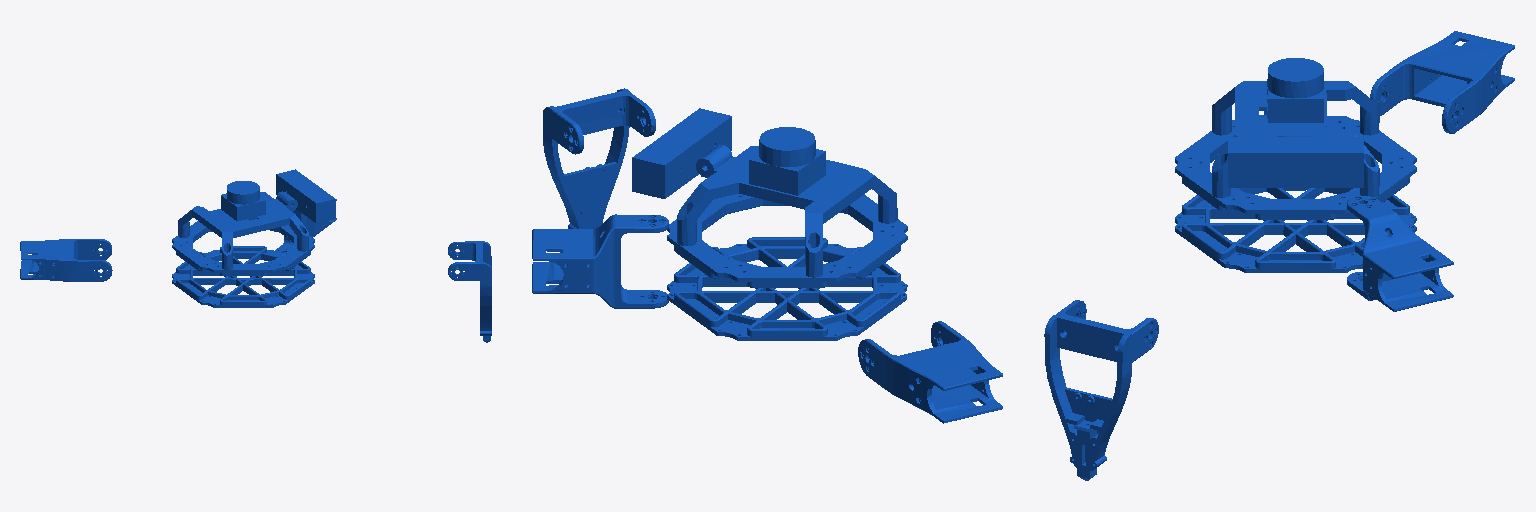
robot.urdf — hexo:
<robot name="hexo" version="1.0">
  <joint name="leg1_link1_joint" type="revolute">
    <limit lower="-2.000000" upper="2.000000" effort="1.960000" velocity="5.220000"/>
    <origin rpy="0.000000 0.000000 -0.523598" xyz="0.077942 -0.045000 0.024150"/>
    <parent link="base_link"/>
    <child link="leg1_link1"/>
    <axis xyz="0.000000 0.000000 1.000000"/>
  </joint>
  <joint name="leg1_link2_joint" type="revolute">
    <limit lower="-2.000000" upper="2.000000" effort="1.960000" velocity="0.000000"/>
    <origin rpy="0.000000 0.000000 -0.000000" xyz="0.070590 -0.000900 0.000072"/>
    <parent link="leg1_link1"/>
    <child link="leg1_link2"/>
    <axis xyz="0.000000 -1.000000 0.000000"/>
  </joint>
  <joint name="leg1_link3_joint" type="revolute">
    <limit lower="-2.000000" upper="2.000000" effort="1.960000" velocity="0.000000"/>
    <origin rpy="0.000000 0.000000 0.000000" xyz="0.079450 -0.000900 -0.000072"/>
    <parent link="leg1_link2"/>
    <child link="leg1_link3"/>
    <axis xyz="0.000000 -1.000000 0.000000"/>
  </joint>
  <joint name="leg1_link4_joint" type="revolute">
    <limit lower="-3.140000" upper="3.140000" effort="10.000000" velocity="10.000000"/>
    <origin rpy="0.000000 0.000000 0.000000" xyz="0.033000 -0.000000 -0.100000"/>
    <parent link="leg1_link3"/>
    <child link="leg1_link4"/>
    <axis xyz="0.000000 0.000000 1.000000"/>
  </joint>
  <joint name="leg2_link1_joint" type="revolute">
    <limit lower="-2.000000" upper="2.000000" effort="1.960000" velocity="5.220000"/>
    <origin rpy="0.000000 0.000000 -1.570796" xyz="0.000000 -0.089999 0.024150"/>
    <parent link="base_link"/>
    <child link="leg2_link1"/>
    <axis xyz="0.000000 0.000000 1.000000"/>
  </joint>
  <joint name="leg2_link2_joint" type="revolute">
    <limit lower="-2.000000" upper="2.000000" effort="1.960000" velocity="0.000000"/>
    <origin rpy="0.000000 0.000000 0.000000" xyz="0.070590 -0.000900 0.000072"/>
    <parent link="leg2_link1"/>
    <child link="leg2_link2"/>
    <axis xyz="0.000000 -1.000000 0.000000"/>
  </joint>
  <joint name="leg2_link3_joint" type="revolute">
    <limit lower="-2.000000" upper="2.000000" effort="1.960000" velocity="0.000000"/>
    <origin rpy="0.000000 0.000000 0.000000" xyz="0.079450 -0.000900 -0.000072"/>
    <parent link="leg2_link2"/>
    <child link="leg2_link3"/>
    <axis xyz="0.000000 -1.000000 0.000000"/>
  </joint>
  <joint name="leg2_link4_joint" type="revolute">
    <limit lower="-3.140000" upper="3.140000" effort="10.000000" velocity="10.000000"/>
    <origin rpy="0.000000 0.000000 -0.000000" xyz="0.033000 -0.000000 -0.100000"/>
    <parent link="leg2_link3"/>
    <child link="leg2_link4"/>
    <axis xyz="0.000000 0.000000 1.000000"/>
  </joint>
  <joint name="leg3_link1_joint" type="revolute">
    <limit lower="-2.000000" upper="2.000000" effort="1.960000" velocity="5.220000"/>
    <origin rpy="0.000000 0.000000 -2.617994" xyz="-0.077942 -0.045000 0.024150"/>
    <parent link="base_link"/>
    <child link="leg3_link1"/>
    <axis xyz="0.000000 0.000000 1.000000"/>
  </joint>
  <joint name="leg3_link2_joint" type="revolute">
    <limit lower="-2.000000" upper="2.000000" effort="1.960000" velocity="0.000000"/>
    <origin rpy="0.000000 0.000000 0.000000" xyz="0.070590 -0.000900 0.000072"/>
    <parent link="leg3_link1"/>
    <child link="leg3_link2"/>
    <axis xyz="0.000000 -1.000000 0.000000"/>
  </joint>
  <joint name="leg3_link3_joint" type="revolute">
    <limit lower="-2.000000" upper="2.000000" effort="1.960000" velocity="0.000000"/>
    <origin rpy="0.000000 0.000000 0.000000" xyz="0.079450 -0.000900 -0.000072"/>
    <parent link="leg3_link2"/>
    <child link="leg3_link3"/>
    <axis xyz="0.000000 -1.000000 0.000000"/>
  </joint>
  <joint name="leg3_link4_joint" type="revolute">
    <limit lower="-3.140000" upper="3.140000" effort="10.000000" velocity="10.000000"/>
    <origin rpy="0.000000 0.000000 0.000000" xyz="0.033000 -0.000000 -0.100000"/>
    <parent link="leg3_link3"/>
    <child link="leg3_link4"/>
    <axis xyz="0.000000 0.000000 1.000000"/>
  </joint>
  <joint name="leg4_link1_joint" type="revolute">
    <limit lower="-2.000000" upper="2.000000" effort="1.960000" velocity="5.220000"/>
    <origin rpy="0.000000 0.000000 2.617994" xyz="-0.077942 0.045000 0.024150"/>
    <parent link="base_link"/>
    <child link="leg4_link1"/>
    <axis xyz="0.000000 0.000000 1.000000"/>
  </joint>
  <joint name="leg4_link2_joint" type="revolute">
    <limit lower="-2.000000" upper="2.000000" effort="1.960000" velocity="0.000000"/>
    <origin rpy="0.000000 0.000000 -0.000000" xyz="0.070590 -0.000900 0.000072"/>
    <parent link="leg4_link1"/>
    <child link="leg4_link2"/>
    <axis xyz="0.000000 -1.000000 0.000000"/>
  </joint>
  <joint name="leg4_link3_joint" type="revolute">
    <limit lower="-2.000000" upper="2.000000" effort="1.960000" velocity="0.000000"/>
    <origin rpy="0.000000 0.000000 -0.000000" xyz="0.079450 -0.000900 -0.000072"/>
    <parent link="leg4_link2"/>
    <child link="leg4_link3"/>
    <axis xyz="0.000000 -1.000000 0.000000"/>
  </joint>
  <joint name="leg4_link4_joint" type="revolute">
    <limit lower="-3.140000" upper="3.140000" effort="10.000000" velocity="10.000000"/>
    <origin rpy="0.000000 0.000000 -0.000000" xyz="0.033000 0.000000 -0.100000"/>
    <parent link="leg4_link3"/>
    <child link="leg4_link4"/>
    <axis xyz="0.000000 0.000000 1.000000"/>
  </joint>
  <joint name="leg5_link1_joint" type="revolute">
    <limit lower="-2.000000" upper="2.000000" effort="1.960000" velocity="5.220000"/>
    <origin rpy="0.000000 0.000000 1.570796" xyz="-0.000000 0.089999 0.024150"/>
    <parent link="base_link"/>
    <child link="leg5_link1"/>
    <axis xyz="0.000000 0.000000 1.000000"/>
  </joint>
  <joint name="leg5_link2_joint" type="revolute">
    <limit lower="-2.000000" upper="2.000000" effort="1.960000" velocity="0.000000"/>
    <origin rpy="0.000000 0.000000 -0.000000" xyz="0.070590 -0.000900 0.000072"/>
    <parent link="leg5_link1"/>
    <child link="leg5_link2"/>
    <axis xyz="0.000000 -1.000000 0.000000"/>
  </joint>
  <joint name="leg5_link3_joint" type="revolute">
    <limit lower="-2.000000" upper="2.000000" effort="1.960000" velocity="0.000000"/>
    <origin rpy="0.000000 0.000000 0.000000" xyz="0.079450 -0.000900 -0.000072"/>
    <parent link="leg5_link2"/>
    <child link="leg5_link3"/>
    <axis xyz="0.000000 -1.000000 0.000000"/>
  </joint>
  <joint name="leg5_link4_joint" type="revolute">
    <limit lower="-3.140000" upper="3.140000" effort="10.000000" velocity="10.000000"/>
    <origin rpy="0.000000 0.000000 0.000000" xyz="0.033000 -0.000000 -0.100000"/>
    <parent link="leg5_link3"/>
    <child link="leg5_link4"/>
    <axis xyz="0.000000 0.000000 1.000000"/>
  </joint>
  <joint name="leg6_link1_joint" type="revolute">
    <limit lower="-2.000000" upper="2.000000" effort="1.960000" velocity="5.220000"/>
    <origin rpy="0.000000 0.000000 0.523599" xyz="0.077942 0.045000 0.024150"/>
    <parent link="base_link"/>
    <child link="leg6_link1"/>
    <axis xyz="0.000000 0.000000 1.000000"/>
  </joint>
  <joint name="leg6_link2_joint" type="revolute">
    <limit lower="-2.000000" upper="2.000000" effort="1.960000" velocity="0.000000"/>
    <origin rpy="0.000000 0.000000 0.000000" xyz="0.070590 -0.000900 0.000072"/>
    <parent link="leg6_link1"/>
    <child link="leg6_link2"/>
    <axis xyz="0.000000 -1.000000 0.000000"/>
  </joint>
  <joint name="leg6_link3_joint" type="revolute">
    <limit lower="-2.000000" upper="2.000000" effort="1.960000" velocity="0.000000"/>
    <origin rpy="0.000000 0.000000 -0.000000" xyz="0.079450 -0.000900 -0.000072"/>
    <parent link="leg6_link2"/>
    <child link="leg6_link3"/>
    <axis xyz="0.000000 -1.000000 0.000000"/>
  </joint>
  <joint name="leg6_link4_joint" type="revolute">
    <limit lower="-3.140000" upper="3.140000" effort="10.000000" velocity="10.000000"/>
    <origin rpy="0.000000 0.000000 -0.000000" xyz="0.033000 -0.000000 -0.100000"/>
    <parent link="leg6_link3"/>
    <child link="leg6_link4"/>
    <axis xyz="0.000000 0.000000 1.000000"/>
  </joint>
  <joint name="lidar_joint" type="fixed">
    <origin rpy="0.000000 0.000000 0.000000" xyz="-0.000038 -0.000818 0.108350"/>
    <parent link="base_link"/>
    <child link="base_laser"/>
  </joint>
  <joint name="rgbd_joint" type="fixed">
    <origin rpy="0.000000 0.000000 0.000000" xyz="0.080951 0.000000 0.084500"/>
    <parent link="base_link"/>
    <child link="rgbd_link"/>
  </joint>
  <link name="base_link">
    <inertial>
      <inertia ixx="0.000010" ixy="0.000000" ixz="0.000000" iyy="0.000010" iyz="0.000000" izz="0.000010"/>
      <origin rpy="0.000000 0.000000 0.000000" xyz="0.000000 0.000000 0.000000"/>
      <mass value="0.000010"/>
    </inertial>
    <visual name="hexo_base_v1.001">
      <origin rpy="0.000000 0.000000 0.000000" xyz="0.000000 0.000000 0.000000"/>
      <material name="Material"/>
      <geometry>
        <mesh filename="package://hexa_description/meshes/stl/hexo_base_v1.001.stl" scale="1.000000 1.000000 1.000000"/>
      </geometry>
    </visual>
  </link>
  <link name="leg1_link1">
    <inertial>
      <inertia ixx="0.000010" ixy="0.000000" ixz="0.000000" iyy="0.000010" iyz="0.000000" izz="0.000010"/>
      <origin rpy="0.000000 0.000000 0.000000" xyz="0.000000 0.000000 0.000000"/>
      <mass value="0.000010"/>
    </inertial>
    <visual name="leg5_link1.003">
      <origin rpy="0.000000 0.000000 1.570796" xyz="-0.000000 0.000000 0.000000"/>
      <material name="Material"/>
      <geometry>
        <mesh filename="package://hexa_description/meshes/stl/hexo_full.007.stl" scale="1.000000 1.000000 1.000000"/>
      </geometry>
    </visual>
  </link>
  <link name="leg1_link2">
    <inertial>
      <inertia ixx="0.000010" ixy="0.000000" ixz="0.000000" iyy="0.000010" iyz="0.000000" izz="0.000010"/>
      <origin rpy="0.000000 0.000000 0.000000" xyz="0.000000 0.000000 0.000000"/>
      <mass value="0.000010"/>
    </inertial>
    <visual name="leg5_link2.003">
      <origin rpy="0.000000 0.000000 1.570796" xyz="-0.000000 0.000000 0.000000"/>
      <material name="Material"/>
      <geometry>
        <mesh filename="package://hexa_description/meshes/stl/hexo_full.008.stl" scale="1.000000 1.000000 1.000000"/>
      </geometry>
    </visual>
  </link>
  <link name="leg1_link3">
    <inertial>
      <inertia ixx="0.000010" ixy="0.000000" ixz="0.000000" iyy="0.000010" iyz="0.000000" izz="0.000010"/>
      <origin rpy="0.000000 0.000000 0.000000" xyz="0.000000 0.000000 0.000000"/>
      <mass value="0.000010"/>
    </inertial>
    <visual name="leg5_link3.003">
      <origin rpy="0.000000 0.000000 1.570796" xyz="0.000000 -0.000000 0.000000"/>
      <material name="Material"/>
      <geometry>
        <mesh filename="package://hexa_description/meshes/stl/hexo_full.009.stl" scale="1.000000 1.000000 1.000000"/>
      </geometry>
    </visual>
  </link>
  <link name="leg1_link4">
    <inertial>
      <inertia ixx="0.000010" ixy="0.000000" ixz="0.000000" iyy="0.000010" iyz="0.000000" izz="0.000010"/>
      <origin rpy="0.000000 0.000000 0.000000" xyz="0.000000 0.000000 0.000000"/>
      <mass value="0.000010"/>
    </inertial>
  </link>
  <link name="leg2_link1">
    <inertial>
      <inertia ixx="0.000010" ixy="0.000000" ixz="0.000000" iyy="0.000010" iyz="0.000000" izz="0.000010"/>
      <origin rpy="0.000000 0.000000 0.000000" xyz="0.000000 0.000000 0.000000"/>
      <mass value="0.000010"/>
    </inertial>
    <visual name="leg5_link1.002">
      <origin rpy="0.000000 0.000000 1.570796" xyz="-0.000000 -0.000000 -0.000000"/>
      <material name="Material"/>
      <geometry>
        <mesh filename="package://hexa_description/meshes/stl/hexo_full.004.stl" scale="1.000000 1.000000 1.000000"/>
      </geometry>
    </visual>
  </link>
  <link name="leg2_link2">
    <inertial>
      <inertia ixx="0.000010" ixy="0.000000" ixz="0.000000" iyy="0.000010" iyz="0.000000" izz="0.000010"/>
      <origin rpy="0.000000 0.000000 0.000000" xyz="0.000000 0.000000 0.000000"/>
      <mass value="0.000010"/>
    </inertial>
    <visual name="leg5_link2.002">
      <origin rpy="0.000000 0.000000 1.570796" xyz="0.000000 0.000000 -0.000000"/>
      <material name="Material"/>
      <geometry>
        <mesh filename="package://hexa_description/meshes/stl/hexo_full.005.stl" scale="1.000000 1.000000 1.000000"/>
      </geometry>
    </visual>
  </link>
  <link name="leg2_link3">
    <inertial>
      <inertia ixx="0.000010" ixy="0.000000" ixz="0.000000" iyy="0.000010" iyz="0.000000" izz="0.000010"/>
      <origin rpy="0.000000 0.000000 0.000000" xyz="0.000000 0.000000 0.000000"/>
      <mass value="0.000010"/>
    </inertial>
    <visual name="leg5_link3.002">
      <origin rpy="0.000000 0.000000 1.570796" xyz="-0.000000 0.000000 -0.000000"/>
      <material name="Material"/>
      <geometry>
        <mesh filename="package://hexa_description/meshes/stl/hexo_full.006.stl" scale="1.000000 1.000000 1.000000"/>
      </geometry>
    </visual>
  </link>
  <link name="leg2_link4">
    <inertial>
      <inertia ixx="0.000010" ixy="0.000000" ixz="0.000000" iyy="0.000010" iyz="0.000000" izz="0.000010"/>
      <origin rpy="0.000000 0.000000 0.000000" xyz="0.000000 0.000000 0.000000"/>
      <mass value="0.000010"/>
    </inertial>
  </link>
  <link name="leg3_link1">
    <inertial>
      <inertia ixx="0.000010" ixy="0.000000" ixz="0.000000" iyy="0.000010" iyz="0.000000" izz="0.000010"/>
      <origin rpy="0.000000 0.000000 0.000000" xyz="0.000000 0.000000 0.000000"/>
      <mass value="0.000010"/>
    </inertial>
    <visual name="leg5_link1.006">
      <origin rpy="0.000000 0.000000 1.570797" xyz="0.000000 -0.000000 -0.000000"/>
      <material name="Material"/>
      <geometry>
        <mesh filename="package://hexa_description/meshes/stl/hexo_full.019.stl" scale="1.000000 1.000000 1.000000"/>
      </geometry>
    </visual>
  </link>
  <link name="leg3_link2">
    <inertial>
      <inertia ixx="0.000010" ixy="0.000000" ixz="0.000000" iyy="0.000010" iyz="0.000000" izz="0.000010"/>
      <origin rpy="0.000000 0.000000 0.000000" xyz="0.000000 0.000000 0.000000"/>
      <mass value="0.000010"/>
    </inertial>
    <visual name="leg5_link2.006">
      <origin rpy="0.000000 0.000000 1.570797" xyz="0.000000 0.000000 0.000000"/>
      <material name="Material"/>
      <geometry>
        <mesh filename="package://hexa_description/meshes/stl/hexo_full.020.stl" scale="1.000000 1.000000 1.000000"/>
      </geometry>
    </visual>
  </link>
  <link name="leg3_link3">
    <inertial>
      <inertia ixx="0.000010" ixy="0.000000" ixz="0.000000" iyy="0.000010" iyz="0.000000" izz="0.000010"/>
      <origin rpy="0.000000 0.000000 0.000000" xyz="0.000000 0.000000 0.000000"/>
      <mass value="0.000010"/>
    </inertial>
    <visual name="leg5_link3.006">
      <origin rpy="0.000000 0.000000 1.570797" xyz="-0.000000 0.000000 0.000000"/>
      <material name="Material"/>
      <geometry>
        <mesh filename="package://hexa_description/meshes/stl/hexo_full.021.stl" scale="1.000000 1.000000 1.000000"/>
      </geometry>
    </visual>
  </link>
  <link name="leg3_link4">
    <inertial>
      <inertia ixx="0.000010" ixy="0.000000" ixz="0.000000" iyy="0.000010" iyz="0.000000" izz="0.000010"/>
      <origin rpy="0.000000 0.000000 0.000000" xyz="0.000000 0.000000 0.000000"/>
      <mass value="0.000010"/>
    </inertial>
  </link>
  <link name="leg4_link1">
    <inertial>
      <inertia ixx="0.000010" ixy="0.000000" ixz="0.000000" iyy="0.000010" iyz="0.000000" izz="0.000010"/>
      <origin rpy="0.000000 0.000000 0.000000" xyz="0.000000 0.000000 0.000000"/>
      <mass value="0.000010"/>
    </inertial>
    <visual name="leg5_link1.005">
      <origin rpy="0.000000 0.000000 1.570797" xyz="0.000000 -0.000000 -0.000000"/>
      <material name="Material"/>
      <geometry>
        <mesh filename="package://hexa_description/meshes/stl/hexo_full.016.stl" scale="1.000000 1.000000 1.000000"/>
      </geometry>
    </visual>
  </link>
  <link name="leg4_link2">
    <inertial>
      <inertia ixx="0.000010" ixy="0.000000" ixz="0.000000" iyy="0.000010" iyz="0.000000" izz="0.000010"/>
      <origin rpy="0.000000 0.000000 0.000000" xyz="0.000000 0.000000 0.000000"/>
      <mass value="0.000010"/>
    </inertial>
    <visual name="leg5_link2.005">
      <origin rpy="0.000000 0.000000 1.570797" xyz="0.000000 -0.000000 0.000000"/>
      <material name="Material"/>
      <geometry>
        <mesh filename="package://hexa_description/meshes/stl/hexo_full.017.stl" scale="1.000000 1.000000 1.000000"/>
      </geometry>
    </visual>
  </link>
  <link name="leg4_link3">
    <inertial>
      <inertia ixx="0.000010" ixy="0.000000" ixz="0.000000" iyy="0.000010" iyz="0.000000" izz="0.000010"/>
      <origin rpy="0.000000 0.000000 0.000000" xyz="0.000000 0.000000 0.000000"/>
      <mass value="0.000010"/>
    </inertial>
    <visual name="leg5_link3.005">
      <origin rpy="0.000000 0.000000 1.570797" xyz="-0.000000 -0.000000 0.000000"/>
      <material name="Material"/>
      <geometry>
        <mesh filename="package://hexa_description/meshes/stl/hexo_full.022.stl" scale="1.000000 1.000000 1.000000"/>
      </geometry>
    </visual>
  </link>
  <link name="leg4_link4">
    <inertial>
      <inertia ixx="0.000010" ixy="0.000000" ixz="0.000000" iyy="0.000010" iyz="0.000000" izz="0.000010"/>
      <origin rpy="0.000000 0.000000 0.000000" xyz="0.000000 0.000000 0.000000"/>
      <mass value="0.000010"/>
    </inertial>
  </link>
  <link name="leg5_link1">
    <inertial>
      <inertia ixx="0.000010" ixy="0.000000" ixz="0.000000" iyy="0.000010" iyz="0.000000" izz="0.000010"/>
      <origin rpy="0.000000 0.000000 0.000000" xyz="0.000000 0.000000 0.000000"/>
      <mass value="0.000010"/>
    </inertial>
    <visual name="leg5_link1.004">
      <origin rpy="0.000000 0.000000 1.570797" xyz="0.000000 -0.000000 -0.000000"/>
      <material name="Material"/>
      <geometry>
        <mesh filename="package://hexa_description/meshes/stl/hexo_full.013.stl" scale="1.000000 1.000000 1.000000"/>
      </geometry>
    </visual>
  </link>
  <link name="leg5_link2">
    <inertial>
      <inertia ixx="0.000010" ixy="0.000000" ixz="0.000000" iyy="0.000010" iyz="0.000000" izz="0.000010"/>
      <origin rpy="0.000000 0.000000 0.000000" xyz="0.000000 0.000000 0.000000"/>
      <mass value="0.000010"/>
    </inertial>
    <visual name="leg5_link2.004">
      <origin rpy="0.000000 0.000000 1.570797" xyz="-0.000000 0.000000 0.000000"/>
      <material name="Material"/>
      <geometry>
        <mesh filename="package://hexa_description/meshes/stl/hexo_full.014.stl" scale="1.000000 1.000000 1.000000"/>
      </geometry>
    </visual>
  </link>
  <link name="leg5_link3">
    <inertial>
      <inertia ixx="0.000010" ixy="0.000000" ixz="0.000000" iyy="0.000010" iyz="0.000000" izz="0.000010"/>
      <origin rpy="0.000000 0.000000 0.000000" xyz="0.000000 0.000000 0.000000"/>
      <mass value="0.000010"/>
    </inertial>
    <visual name="leg5_link3.004">
      <origin rpy="0.000000 0.000000 1.570797" xyz="-0.000000 0.000000 0.000000"/>
      <material name="Material"/>
      <geometry>
        <mesh filename="package://hexa_description/meshes/stl/hexo_full.015.stl" scale="1.000000 1.000000 1.000000"/>
      </geometry>
    </visual>
  </link>
  <link name="leg5_link4">
    <inertial>
      <inertia ixx="0.000010" ixy="0.000000" ixz="0.000000" iyy="0.000010" iyz="0.000000" izz="0.000010"/>
      <origin rpy="0.000000 0.000000 0.000000" xyz="0.000000 0.000000 0.000000"/>
      <mass value="0.000010"/>
    </inertial>
  </link>
  <link name="leg6_link1">
    <inertial>
      <inertia ixx="0.000010" ixy="0.000000" ixz="0.000000" iyy="0.000010" iyz="0.000000" izz="0.000010"/>
      <origin rpy="0.000000 0.000000 0.000000" xyz="0.000000 0.000000 0.000000"/>
      <mass value="0.000010"/>
    </inertial>
    <visual name="leg5_link1.001">
      <origin rpy="0.000000 0.000000 1.570796" xyz="0.000000 -0.000000 -0.000000"/>
      <material name="Material"/>
      <geometry>
        <mesh filename="package://hexa_description/meshes/stl/hexo_full.010.stl" scale="1.000000 1.000000 1.000000"/>
      </geometry>
    </visual>
  </link>
  <link name="leg6_link2">
    <inertial>
      <inertia ixx="0.000010" ixy="0.000000" ixz="0.000000" iyy="0.000010" iyz="0.000000" izz="0.000010"/>
      <origin rpy="0.000000 0.000000 0.000000" xyz="0.000000 0.000000 0.000000"/>
      <mass value="0.000010"/>
    </inertial>
    <visual name="leg5_link2.001">
      <origin rpy="0.000000 0.000000 1.570796" xyz="0.000000 -0.000000 -0.000000"/>
      <material name="Material"/>
      <geometry>
        <mesh filename="package://hexa_description/meshes/stl/hexo_full.011.stl" scale="1.000000 1.000000 1.000000"/>
      </geometry>
    </visual>
  </link>
  <link name="leg6_link3">
    <inertial>
      <inertia ixx="0.000010" ixy="0.000000" ixz="0.000000" iyy="0.000010" iyz="0.000000" izz="0.000010"/>
      <origin rpy="0.000000 0.000000 0.000000" xyz="0.000000 0.000000 0.000000"/>
      <mass value="0.000010"/>
    </inertial>
    <visual name="leg5_link3.001">
      <origin rpy="0.000000 0.000000 1.570796" xyz="-0.000000 0.000000 -0.000000"/>
      <material name="Material"/>
      <geometry>
        <mesh filename="package://hexa_description/meshes/stl/hexo_full.012.stl" scale="1.000000 1.000000 1.000000"/>
      </geometry>
    </visual>
  </link>
  <link name="leg6_link4">
    <inertial>
      <inertia ixx="0.000010" ixy="0.000000" ixz="0.000000" iyy="0.000010" iyz="0.000000" izz="0.000010"/>
      <origin rpy="0.000000 0.000000 0.000000" xyz="0.000000 0.000000 0.000000"/>
      <mass value="0.000010"/>
    </inertial>
  </link>
  <link name="base_laser">
    <inertial>
      <inertia ixx="0.000010" ixy="0.000000" ixz="0.000000" iyy="0.000010" iyz="0.000000" izz="0.000010"/>
      <origin rpy="0.000000 0.000000 0.000000" xyz="0.000000 0.000000 0.000000"/>
      <mass value="0.000010"/>
    </inertial>
    <visual name="hexo_base_v1.002">
      <origin rpy="0.000000 0.000000 0.000000" xyz="0.000000 0.000000 0.000000"/>
      <material name="Material"/>
      <geometry>
        <mesh filename="package://hexa_description/meshes/stl/hexo_base_v1.003.stl" scale="1.000000 1.000000 1.000000"/>
      </geometry>
    </visual>
  </link>
  <link name="rgbd_link">
    <inertial>
      <inertia ixx="0.000010" ixy="0.000000" ixz="0.000000" iyy="0.000010" iyz="0.000000" izz="0.000010"/>
      <origin rpy="0.000000 0.000000 0.000000" xyz="0.000000 0.000000 0.000000"/>
      <mass value="0.000010"/>
    </inertial>
    <visual name="hexo_base_v1">
      <origin rpy="0.000000 0.000000 0.000000" xyz="0.000000 0.000000 0.000000"/>
      <material name="Material"/>
      <geometry>
        <mesh filename="package://hexa_description/meshes/stl/hexo_base_v1.stl" scale="1.000000 1.000000 1.000000"/>
      </geometry>
    </visual>
  </link>
  <material name="Material">
    <color rgba="0.133333 0.415686 0.800000 1.000000"/>
  </material>
</robot>

--- Render facts (derived) ---
3 views of the same robot in one strip: view 1: azimuth 30°, elevation 25°; view 2: azimuth 150°, elevation 25°; view 3: azimuth 270°, elevation 25° (orthographic).
Model hexo with 27 links and 26 joints (24 revolute, 2 fixed), rooted at base_link, posed all joints at 0.
Visible links, largest first — view 1: base_link, leg4_link2, leg1_link3, rgbd_link, base_laser, leg6_link1; view 2: base_link, leg4_link2, leg1_link3, leg6_link1, rgbd_link, base_laser; view 3: base_link, leg1_link3, leg4_link2, leg6_link1, rgbd_link, base_laser.
Link boxes in pixels (left/top/right/bottom): base_link: left=172, top=191, right=314, bottom=307; leg4_link2: left=20, top=239, right=112, bottom=281; leg1_link3: left=448, top=241, right=491, bottom=342; rgbd_link: left=276, top=169, right=335, bottom=223; base_laser: left=221, top=181, right=265, bottom=221; leg6_link1: left=275, top=199, right=336, bottom=252; base_link: left=667, top=145, right=907, bottom=340; leg4_link2: left=858, top=321, right=1002, bottom=423; leg1_link3: left=543, top=88, right=655, bottom=228; leg6_link1: left=532, top=214, right=668, bottom=308; rgbd_link: left=632, top=108, right=731, bottom=198; base_laser: left=749, top=127, right=825, bottom=195; base_link: left=1175, top=81, right=1416, bottom=272; leg1_link3: left=1044, top=300, right=1158, bottom=480; leg4_link2: left=1370, top=31, right=1514, bottom=133; leg6_link1: left=1347, top=196, right=1453, bottom=311; rgbd_link: left=1228, top=137, right=1363, bottom=187; base_laser: left=1267, top=58, right=1323, bottom=122.
Bounding box of the posed robot: 0.4822 × 0.3121 × 0.1903 m (x, y, z).
6 mesh visuals loaded from 21 distinct referenced files (6 binary STL); not drawn: 15 (reference not matched to a file when rendering).